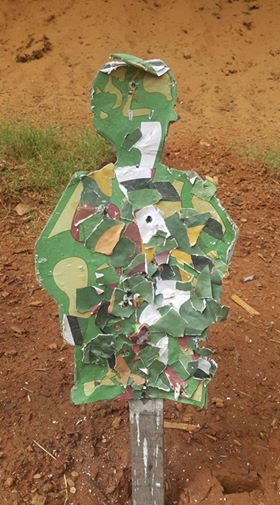Bullet: (198, 339, 205, 350), (129, 82, 137, 89), (145, 216, 152, 223), (140, 391, 147, 398), (122, 300, 128, 306), (126, 290, 131, 297), (141, 271, 146, 276)
